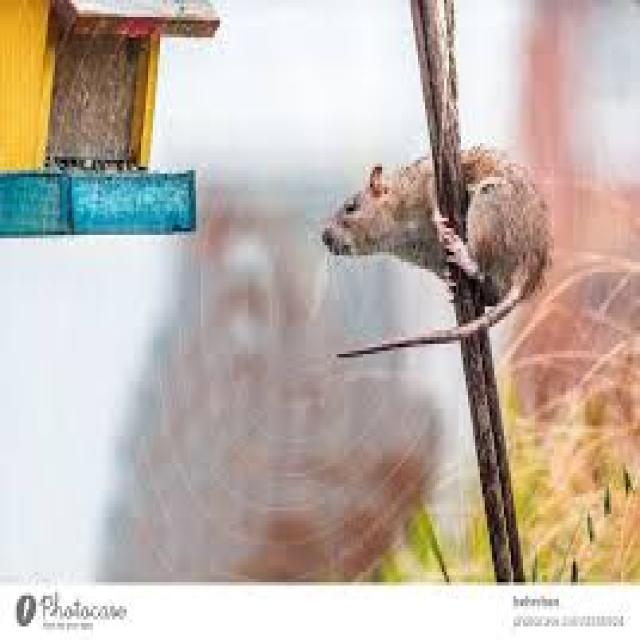Rat: (296, 113, 572, 380)
